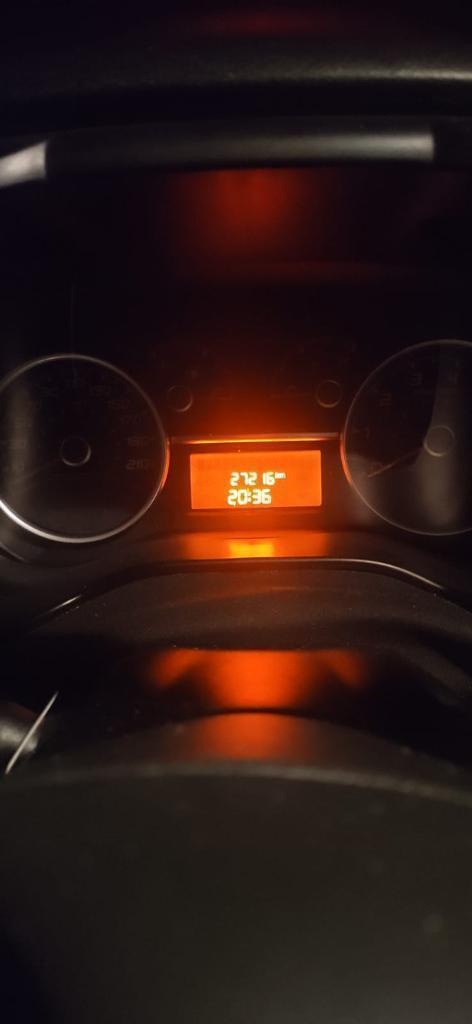0: (237, 489, 247, 505)
1: (261, 471, 265, 485)
2: (226, 488, 237, 506), (229, 471, 239, 486), (248, 471, 257, 485)
3: (251, 488, 261, 505)
6: (261, 487, 272, 504), (266, 471, 274, 485)
7: (239, 471, 248, 486)
X: (247, 490, 251, 504), (280, 472, 286, 479), (275, 471, 280, 479)
odometer: (184, 446, 326, 513)
